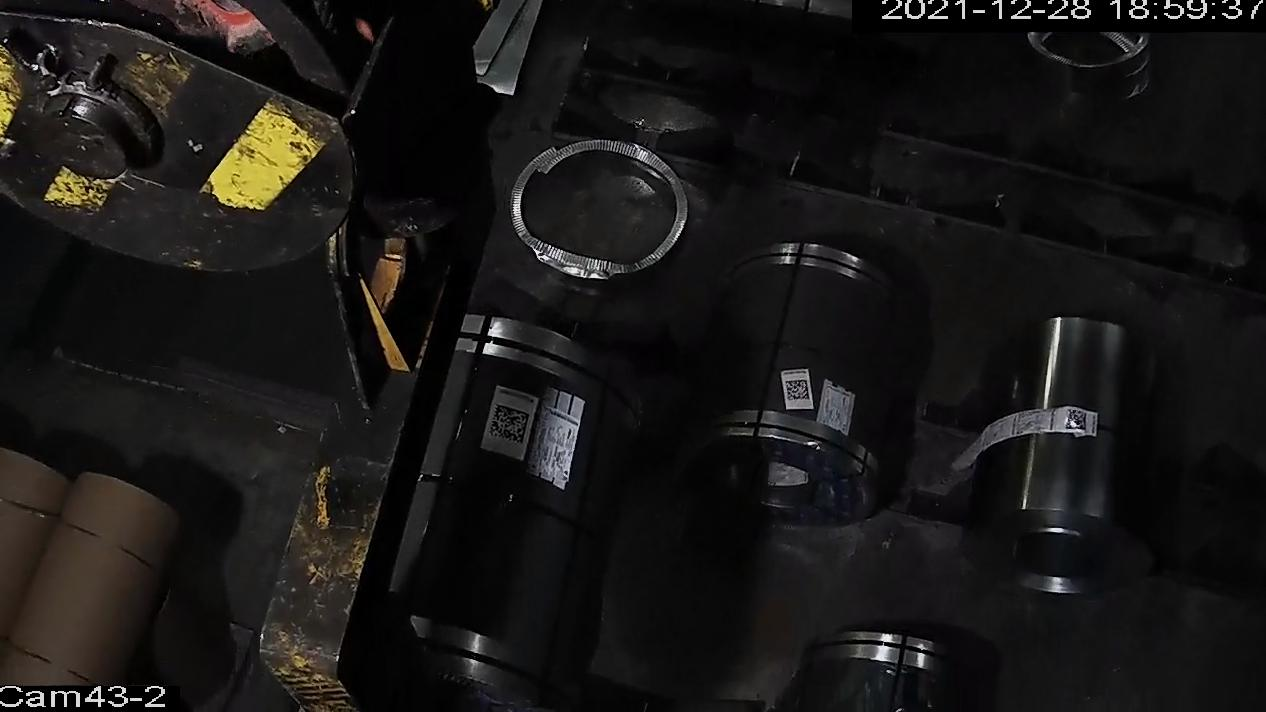data matrix: (483, 402, 535, 448), (783, 377, 816, 406), (1063, 408, 1092, 433)
